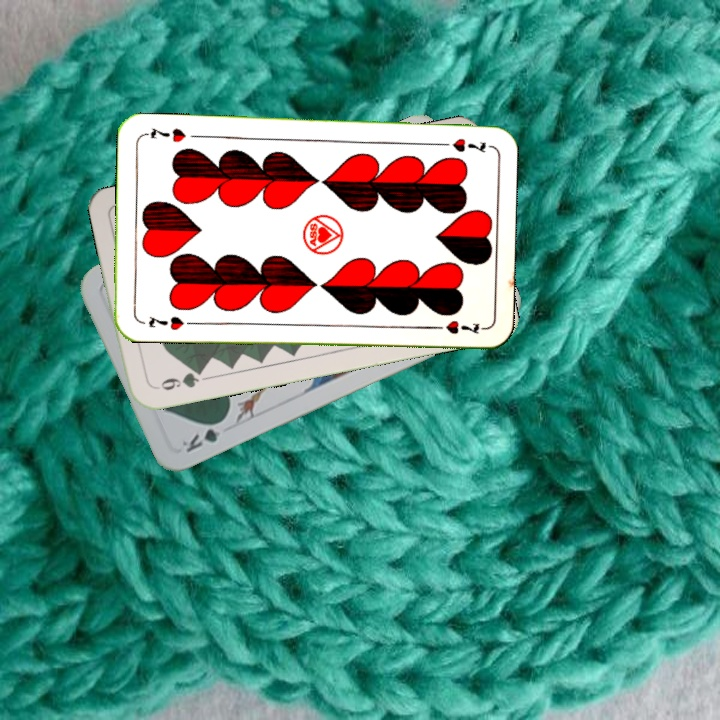G9: (149, 365, 206, 393)
GK: (177, 415, 229, 456)
H7: (432, 134, 488, 156), (145, 312, 187, 333)
